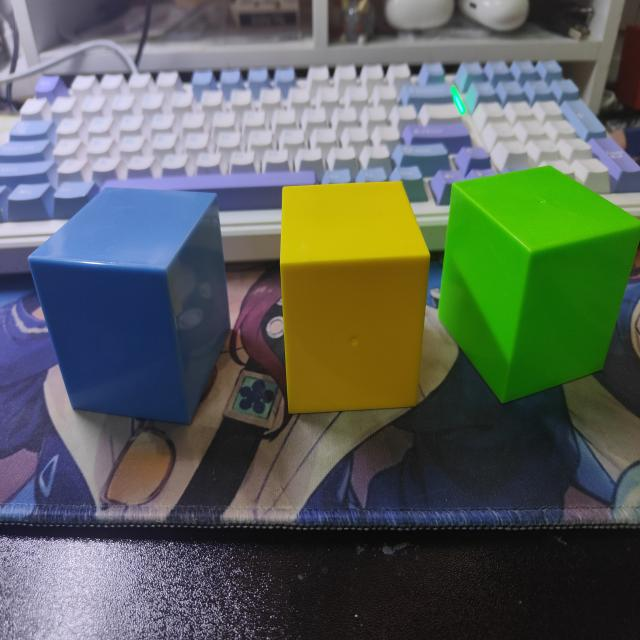blue: (27, 184, 230, 428)
green: (437, 166, 640, 407)
yellow: (279, 181, 430, 416)
